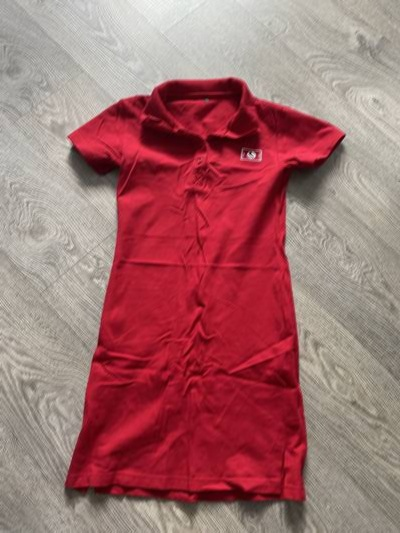Dress: (47, 72, 348, 517)
